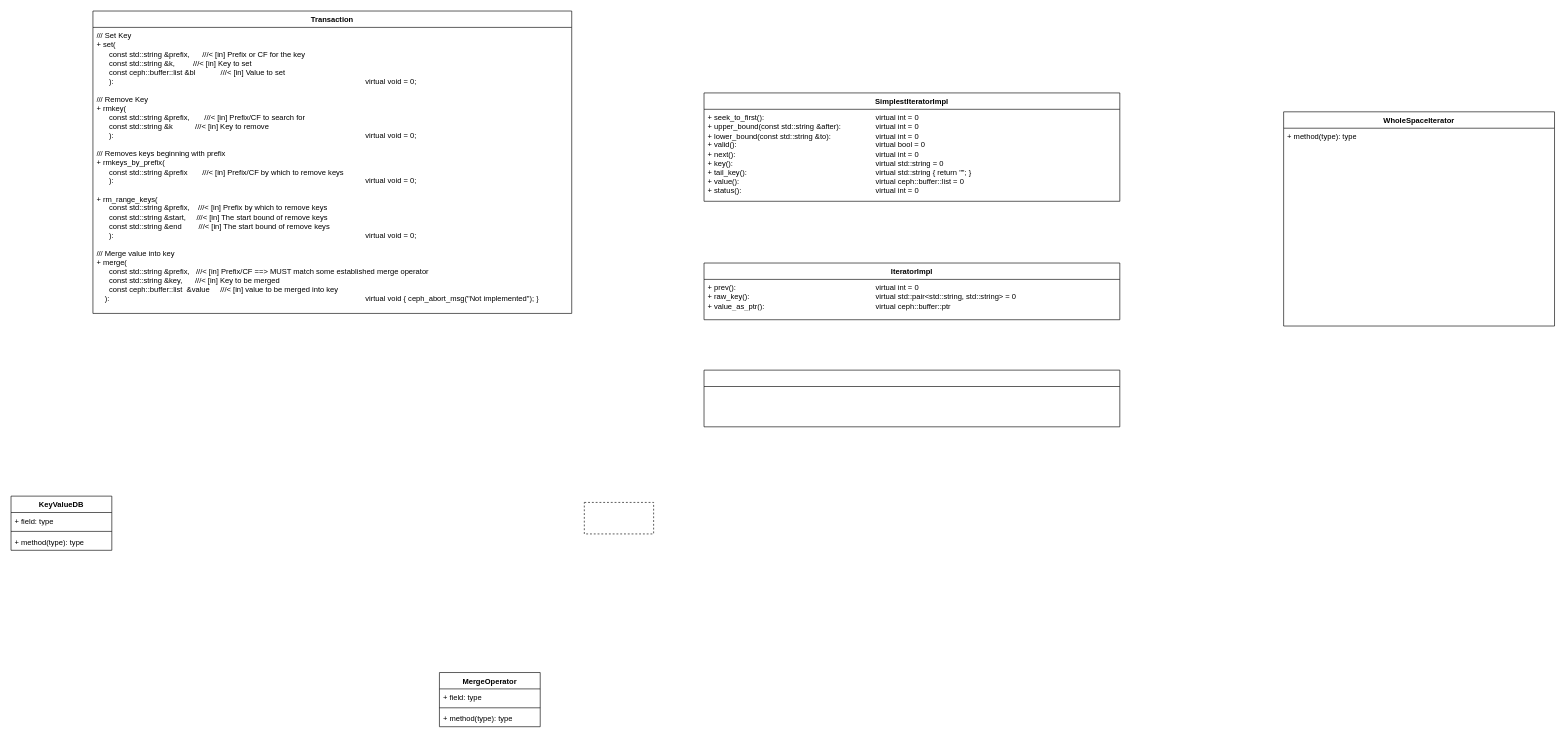
Image size: 1566x740. Some labels were removed from this diagram. Here are the shapes that lost their labels. From the top down, the centre of each, then its label:
At (911,398): "PrefixIteratorImpl".
At (619,518): "«interface» Iterator".
